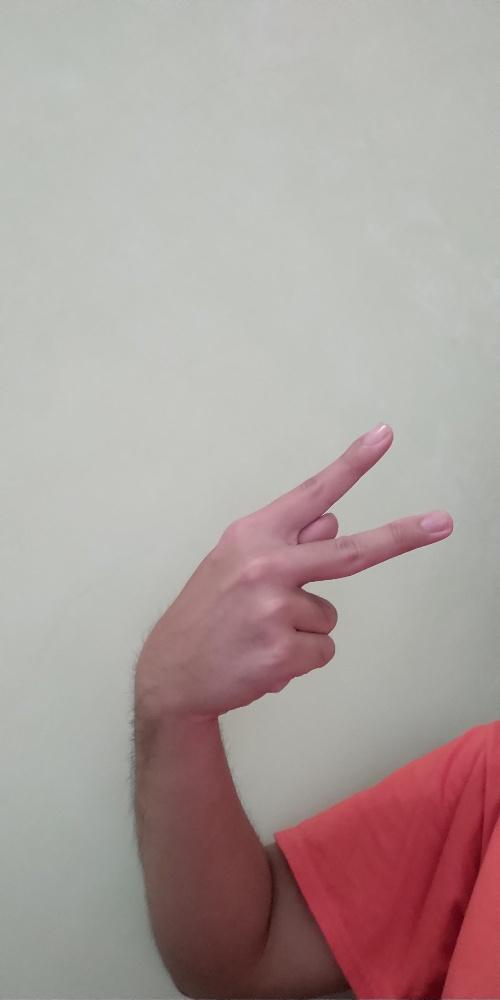k: (131, 419, 455, 716)
